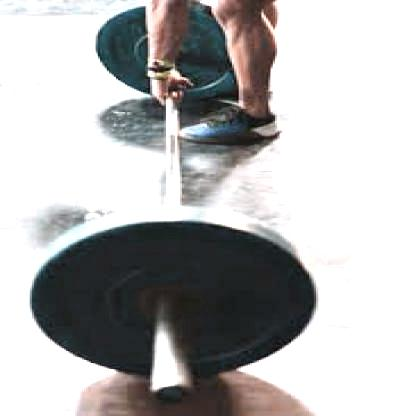Barbell: (124, 372, 224, 408)
